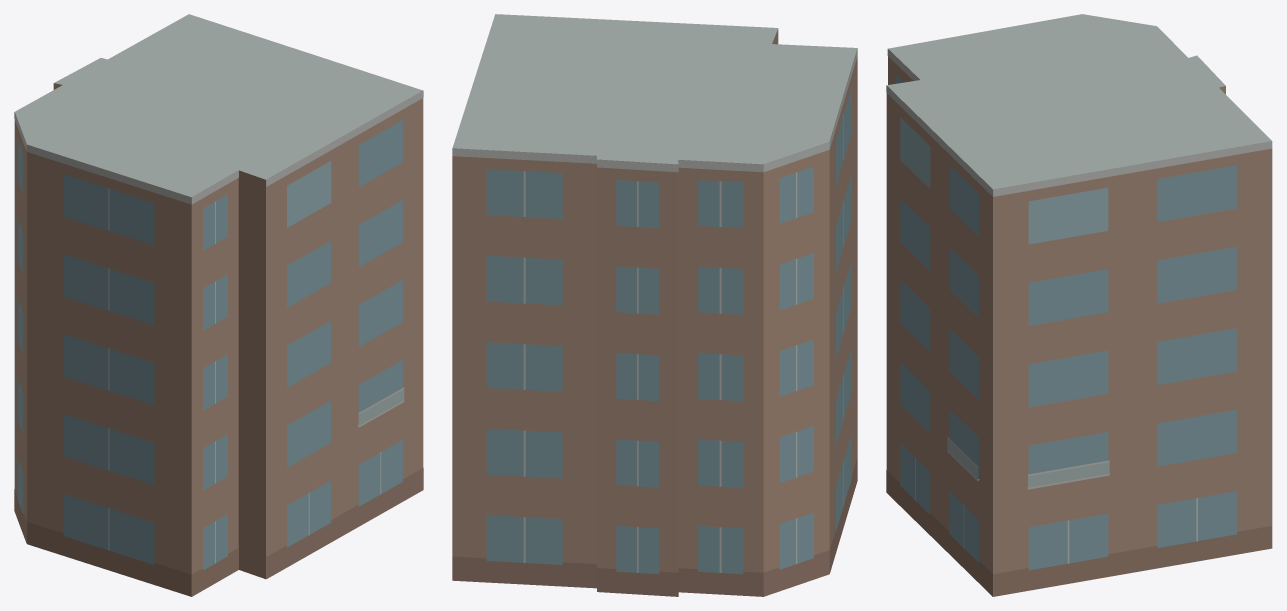
Rendered from survey-upis-32758768.glb.
3 views of the same model, side by side, from view 1: azimuth 30°, elevation 25°; view 2: azimuth 150°, elevation 25°; view 3: azimuth 270°, elevation 25° (orthographic). The views are drawn at different scales.
Visible parts, largest first — view 1: survey-upis-32758768.tmp; view 2: survey-upis-32758768.tmp; view 3: survey-upis-32758768.tmp.
Boxes of the visible parts, left/top/right/bottom form: survey-upis-32758768.tmp: left=14, top=14, right=423, bottom=596; survey-upis-32758768.tmp: left=452, top=14, right=857, bottom=596; survey-upis-32758768.tmp: left=886, top=14, right=1272, bottom=596.
Bounding box in the file's own units: 12.33 × 13.34 × 11.46.
